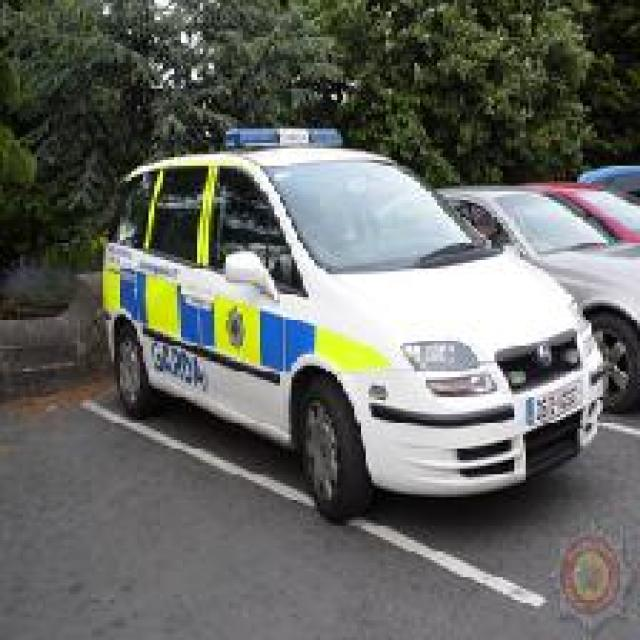Police-car: (97, 123, 612, 520)
